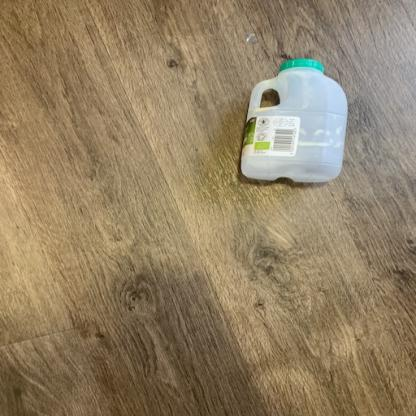trash: (242, 54, 348, 190)
